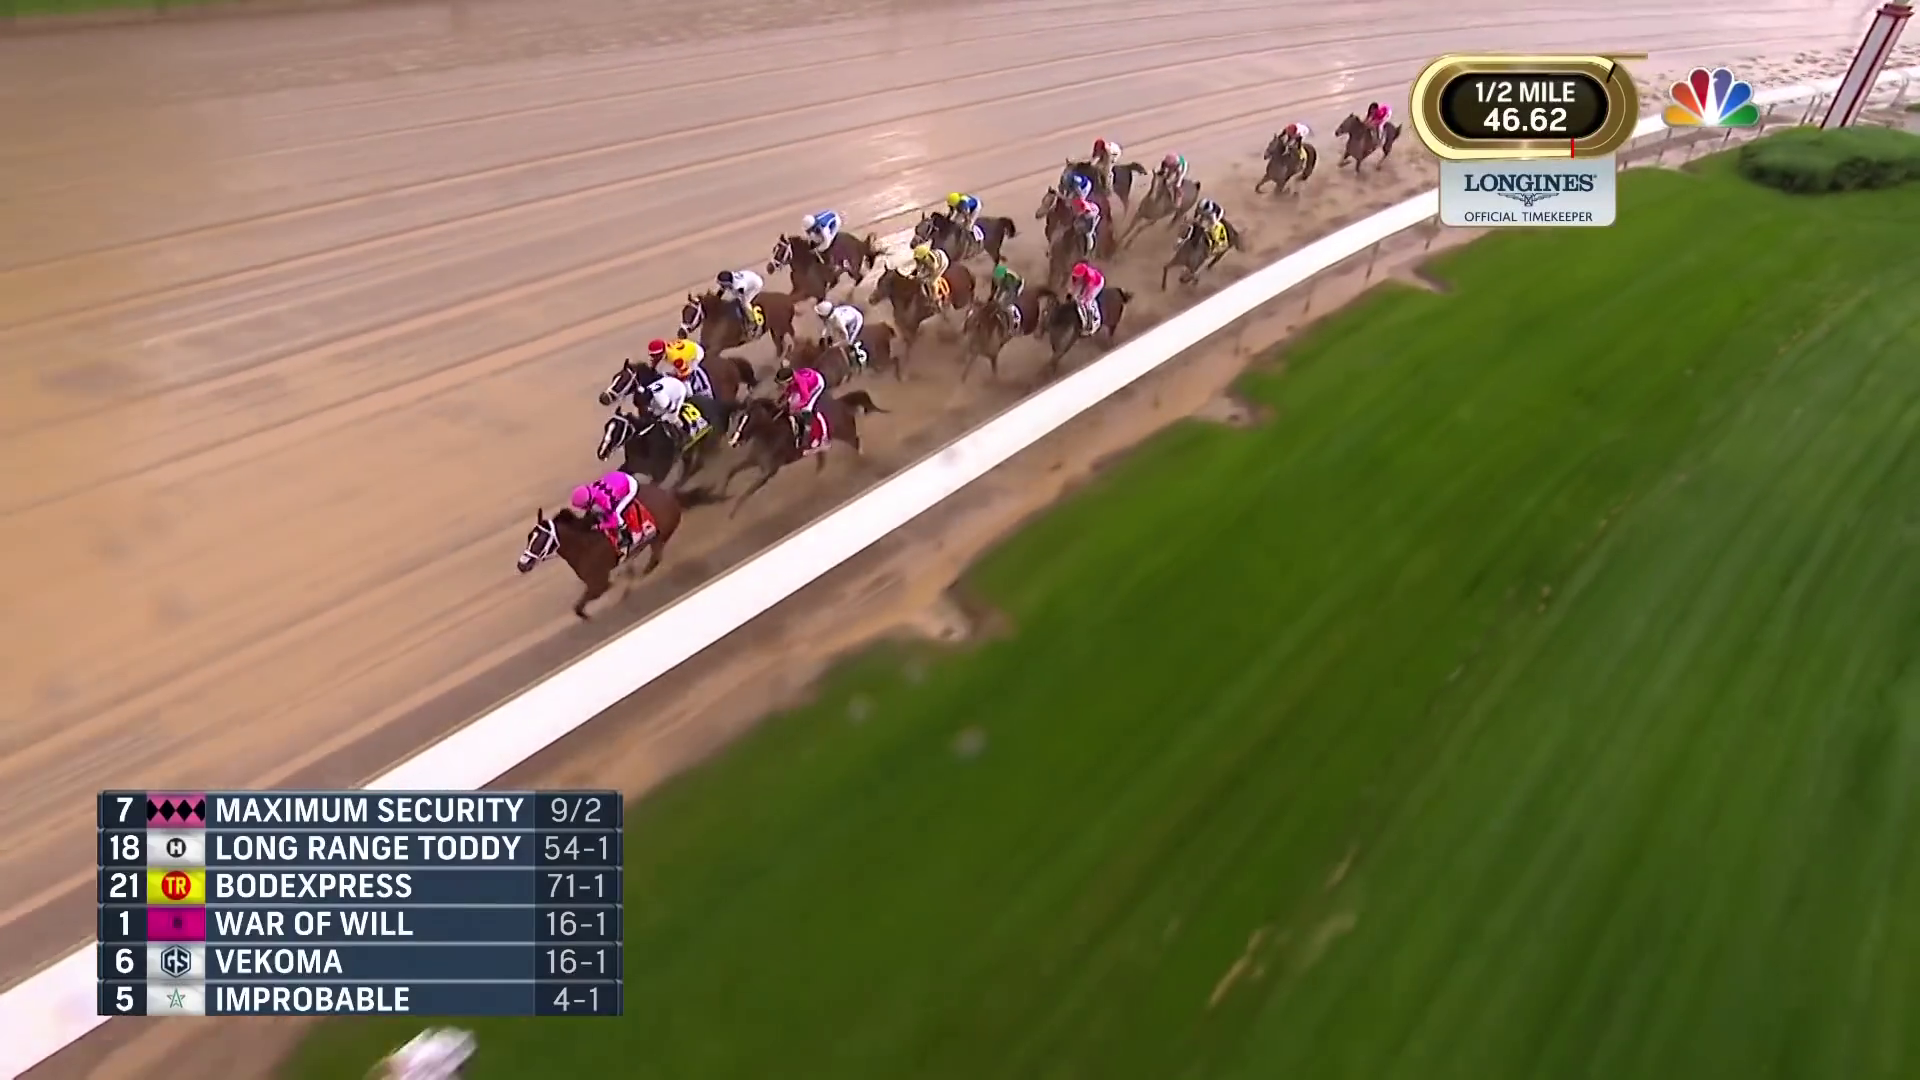jockey: (578, 469, 636, 555), (640, 334, 705, 392), (717, 265, 762, 342), (818, 301, 866, 371), (775, 360, 822, 433), (637, 378, 687, 440), (909, 241, 949, 309), (1062, 187, 1102, 252), (804, 208, 843, 277), (1065, 261, 1105, 323), (993, 262, 1025, 331), (1156, 149, 1189, 206), (944, 191, 980, 243), (1091, 133, 1122, 182), (1361, 100, 1395, 144), (1196, 199, 1224, 251), (1282, 121, 1309, 164)
